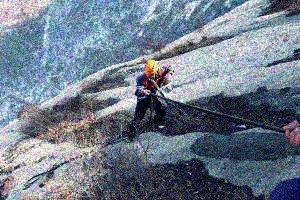helmet: (143, 60, 159, 79)
